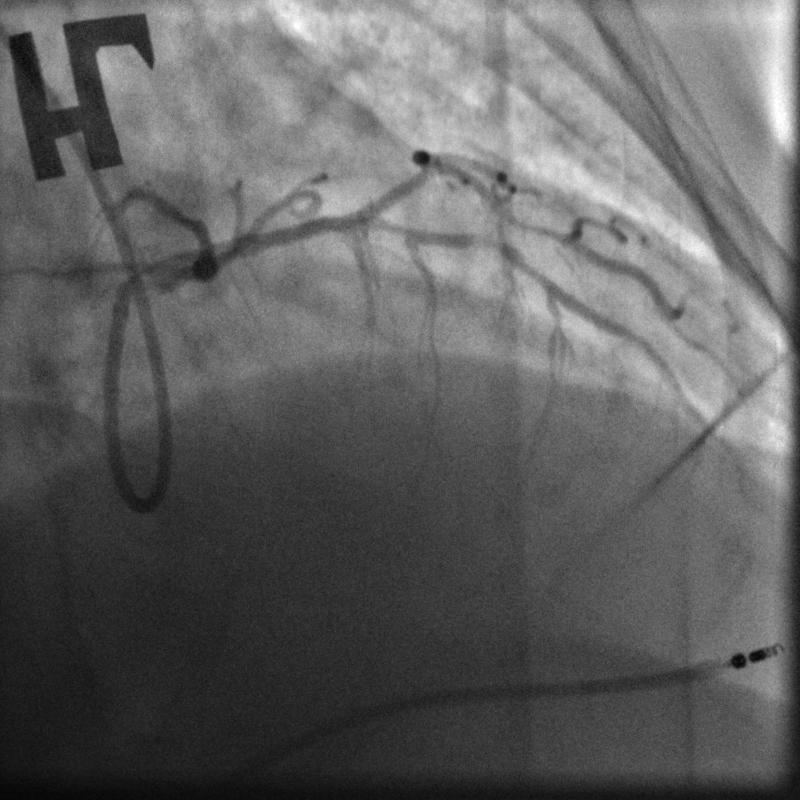Stenosis: (465, 226, 518, 265)
